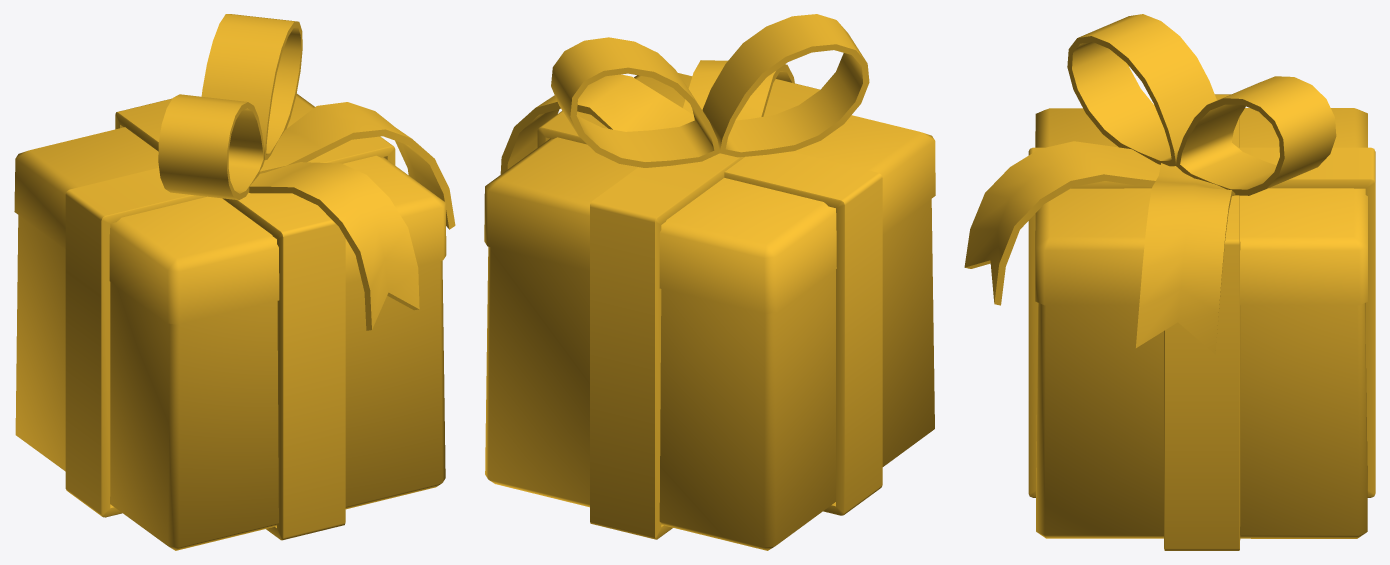
The model's file is GiftBox.fbx.
The picture shows the model from 3 angles, left to right: view 1: azimuth 30°, elevation 25°; view 2: azimuth 150°, elevation 25°; view 3: azimuth 270°, elevation 25°; orthographic projection. The views are drawn at different scales.
Parts seen in each view (by area): view 1: GiftBox; view 2: GiftBox; view 3: GiftBox.
Boxes of the visible parts, <box> form: GiftBox: <box>14,14,455,550</box>; GiftBox: <box>484,14,935,550</box>; GiftBox: <box>964,14,1375,550</box>.
Size of the model in its own units: 9.55 by 10.9 by 9.62.
